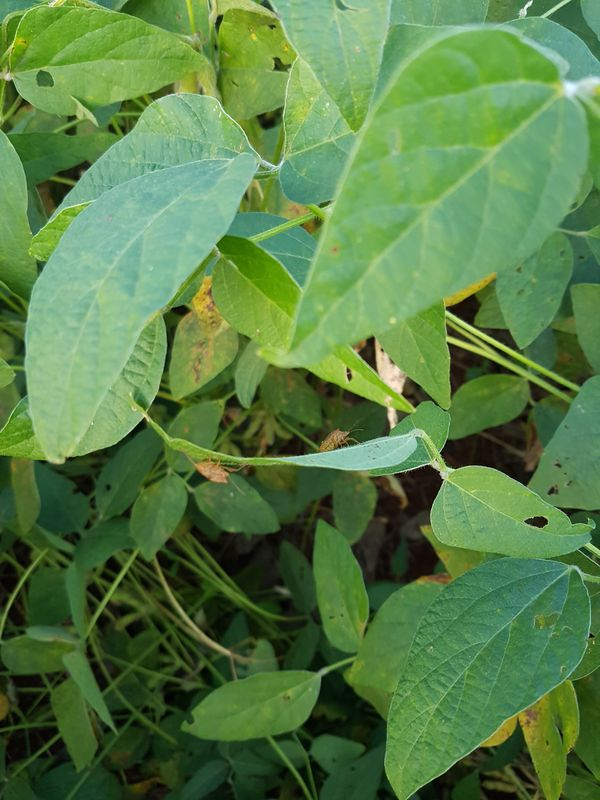Euschistus_heros_adulto: (176, 447, 253, 504), (305, 420, 366, 466)
